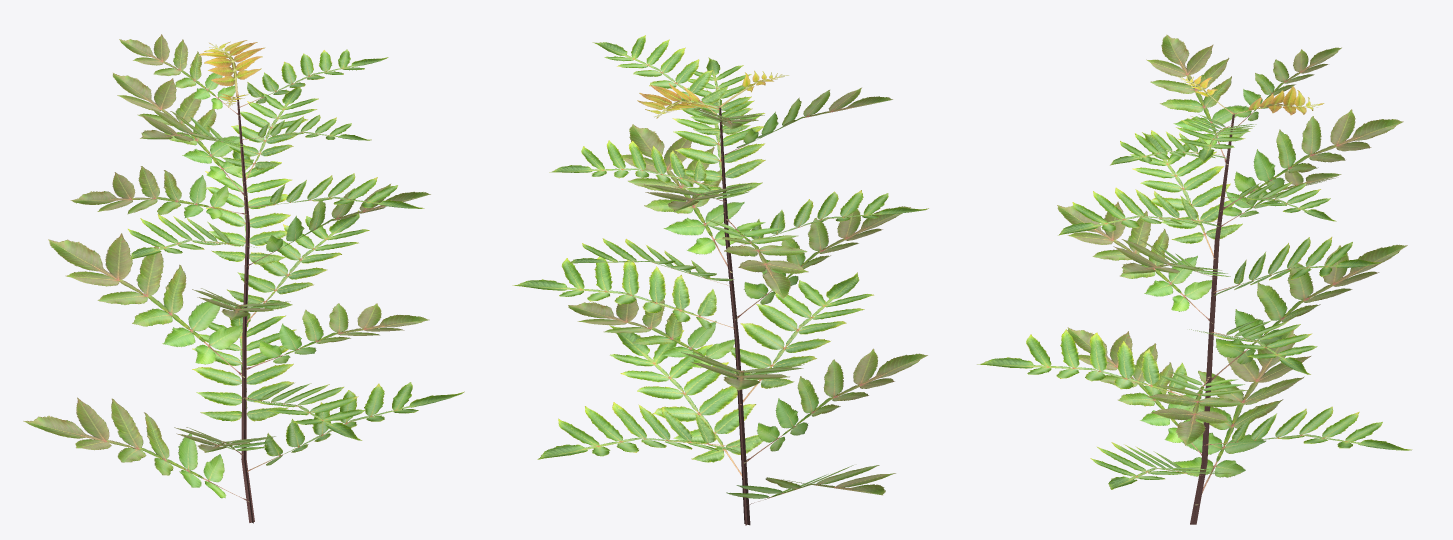
The model's file is m_grass_31_1.fbx.
The picture shows the model from 3 angles, left to right: view 1: azimuth 30°, elevation 25°; view 2: azimuth 150°, elevation 25°; view 3: azimuth 270°, elevation 25°; orthographic projection. The views are drawn at different scales.
Parts seen in each view (by area): view 1: mesh_grass_31_1_LOD0; view 2: mesh_grass_31_1_LOD0; view 3: mesh_grass_31_1_LOD0.
Boxes of the visible parts, x1,y1,x2,y2 form: mesh_grass_31_1_LOD0: (23, 34, 464, 523); mesh_grass_31_1_LOD0: (512, 35, 928, 525); mesh_grass_31_1_LOD0: (977, 34, 1412, 524).
Size of what is drawn, in the model's own units: 117 by 129 by 119.
